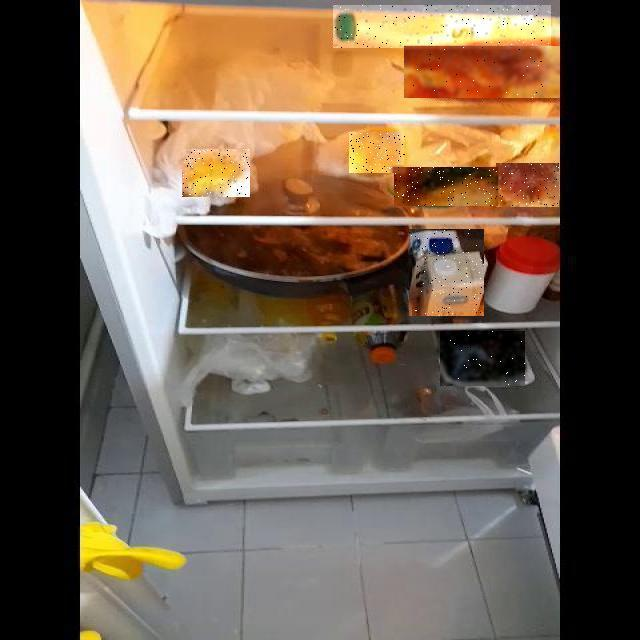Broccoli: (440, 331, 525, 386)
Carrot: (404, 46, 560, 98)
Chillies: (395, 167, 499, 206)
Lemon: (183, 149, 251, 197), (350, 132, 406, 173)
Milk: (333, 5, 551, 48), (409, 229, 484, 316)
Tomato Paste: (496, 163, 559, 207)
